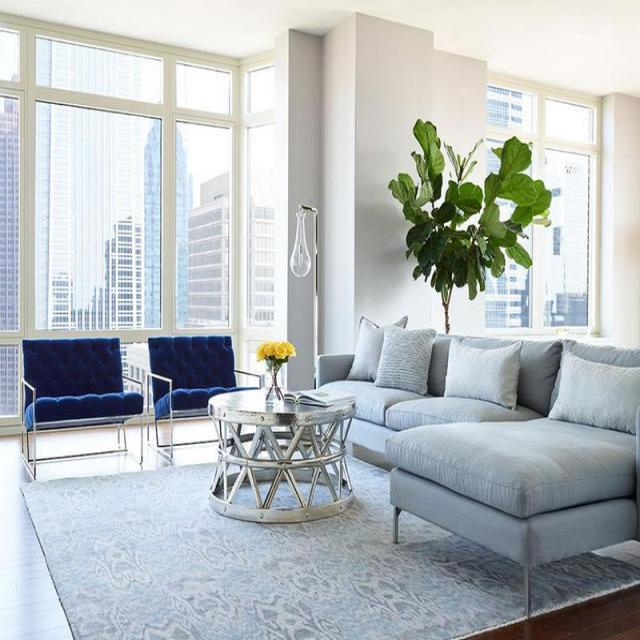couch: (316, 316, 639, 617)
